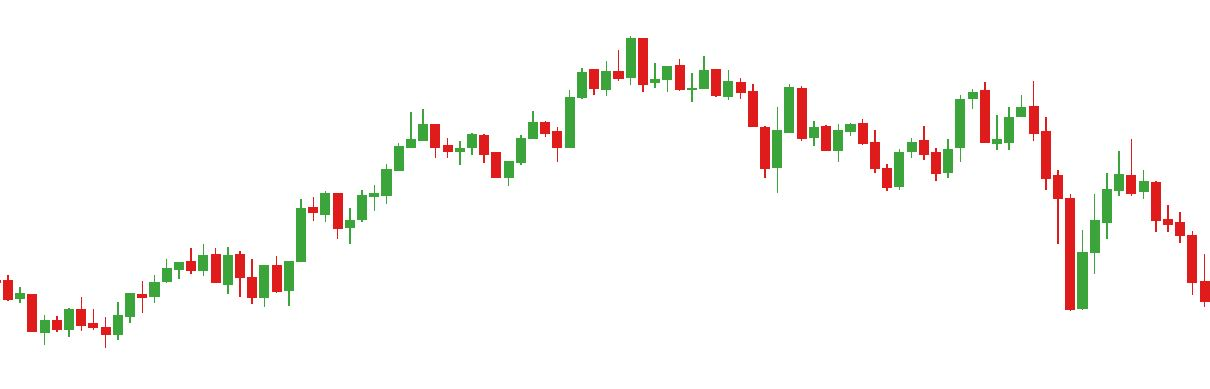sell: (917, 80, 993, 162)
